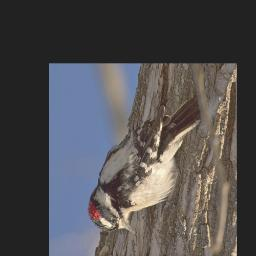Woodpecker: (87, 95, 201, 235)
